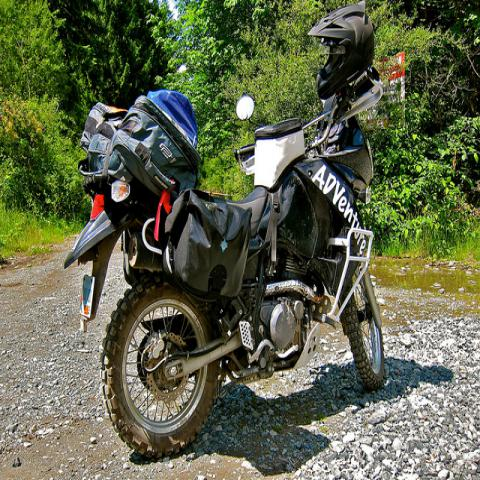motorcycle: (61, 70, 386, 458)
